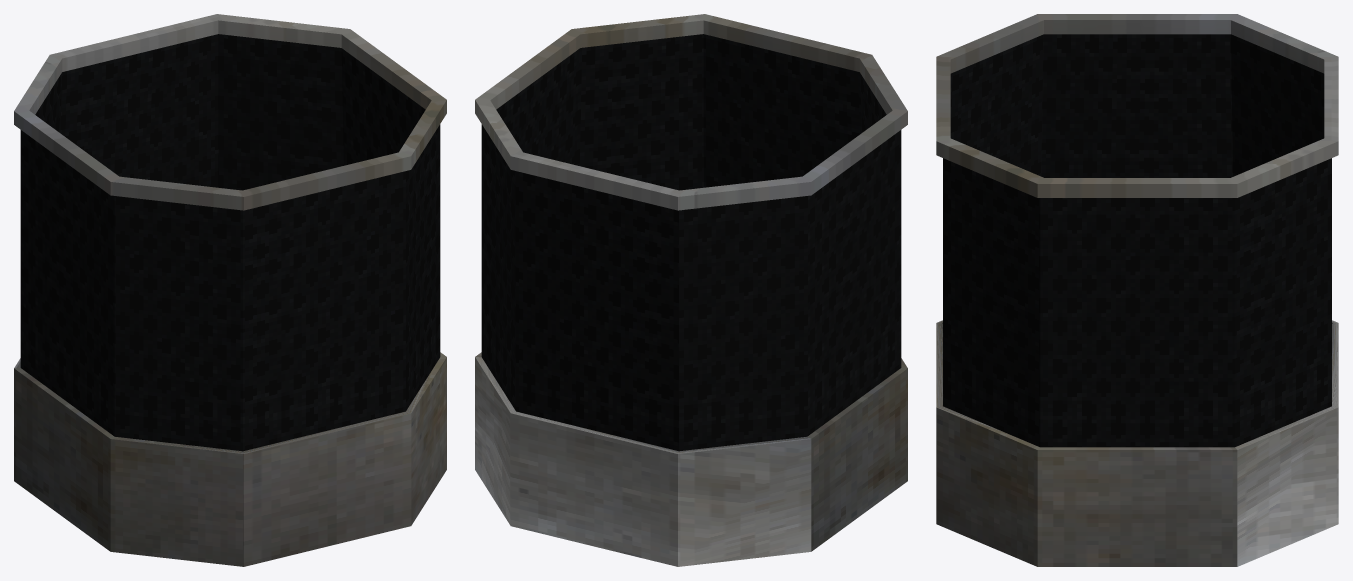
Rendered from CoalBasketEmpty.fbx.
3 renders of one model, left to right at view 1: azimuth 30°, elevation 25°; view 2: azimuth 150°, elevation 25°; view 3: azimuth 270°, elevation 25°, orthographic. The views are drawn at different scales.
Parts seen in each view (by area): view 1: CoalBasketEmpty; view 2: CoalBasketEmpty; view 3: CoalBasketEmpty.
Boxes of the visible parts, <box> form: CoalBasketEmpty: <box>14,14,446,566</box>; CoalBasketEmpty: <box>475,14,907,566</box>; CoalBasketEmpty: <box>936,14,1338,566</box>.
Bounding box in the file's own units: 1.76 × 1.85 × 1.76.
Materials: 2 (2 with a texture image).
